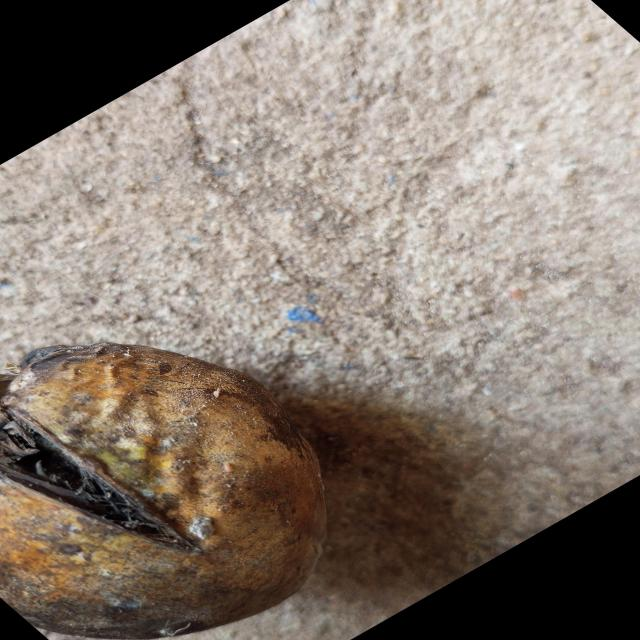damaged: (0, 343, 326, 640)
